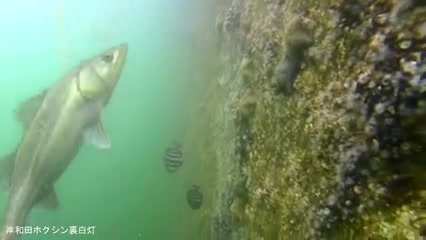ishidai: (158, 141, 188, 175)
suzuki: (2, 33, 140, 223)
